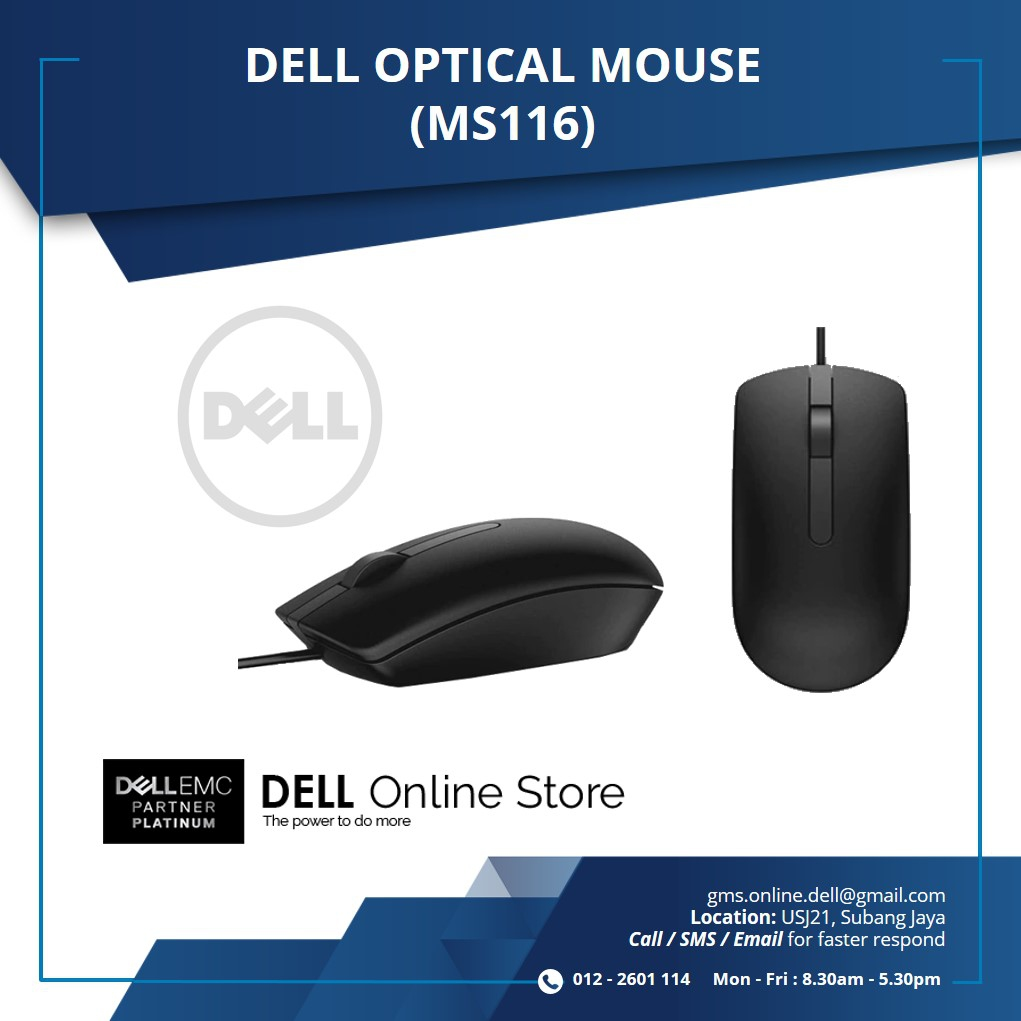dell-mouse-ms116: (226, 509, 665, 712), (726, 320, 912, 681)
